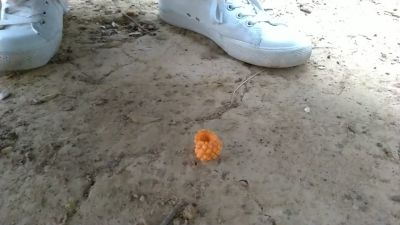eggs: (194, 125, 223, 166)
